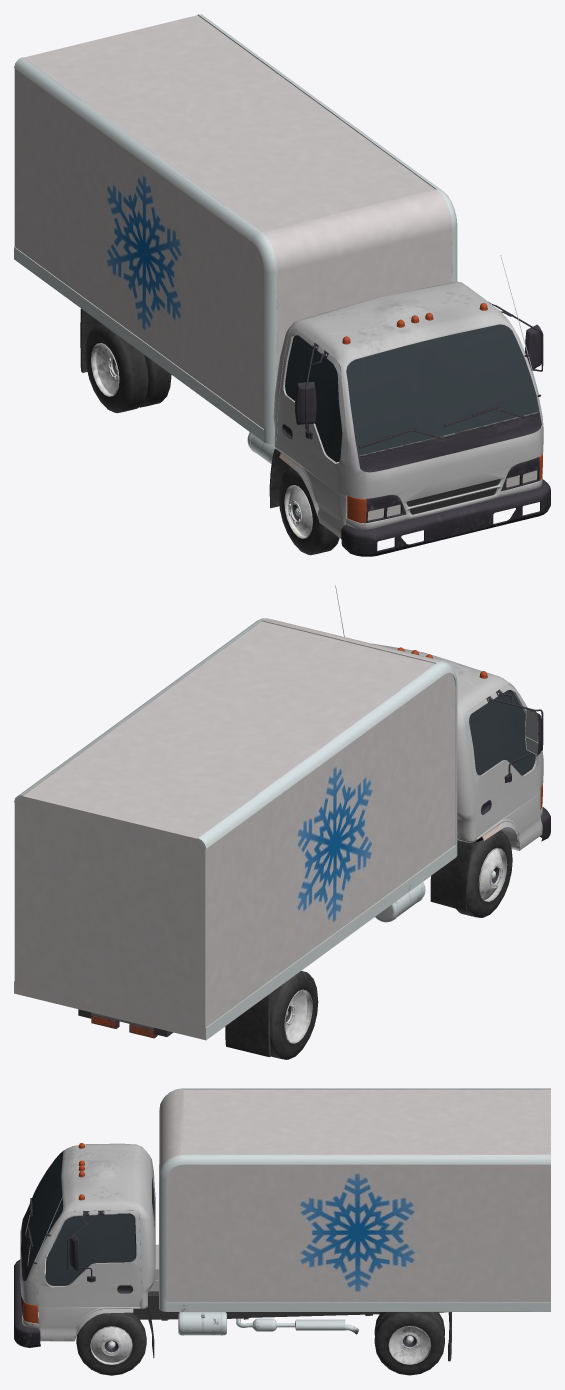
The model's file is veh_boxtruck.glb.
The picture shows the model from 3 angles, top to bottom: view 1: azimuth 30°, elevation 25°; view 2: azimuth 150°, elevation 25°; view 3: azimuth 270°, elevation 25°; orthographic projection. The views are drawn at different scales.
Parts seen in each view (by area): view 1: Truck; view 2: Truck; view 3: Truck.
Part boxes in pixels (x1,y1,x2,y2): Truck: (14,14,550,556); Truck: (14,585,550,1059); Truck: (14,1088,550,1375).
Bounding box in the file's own units: 15.74 × 17.49 × 38.83.
2 materials, 1 textured.
